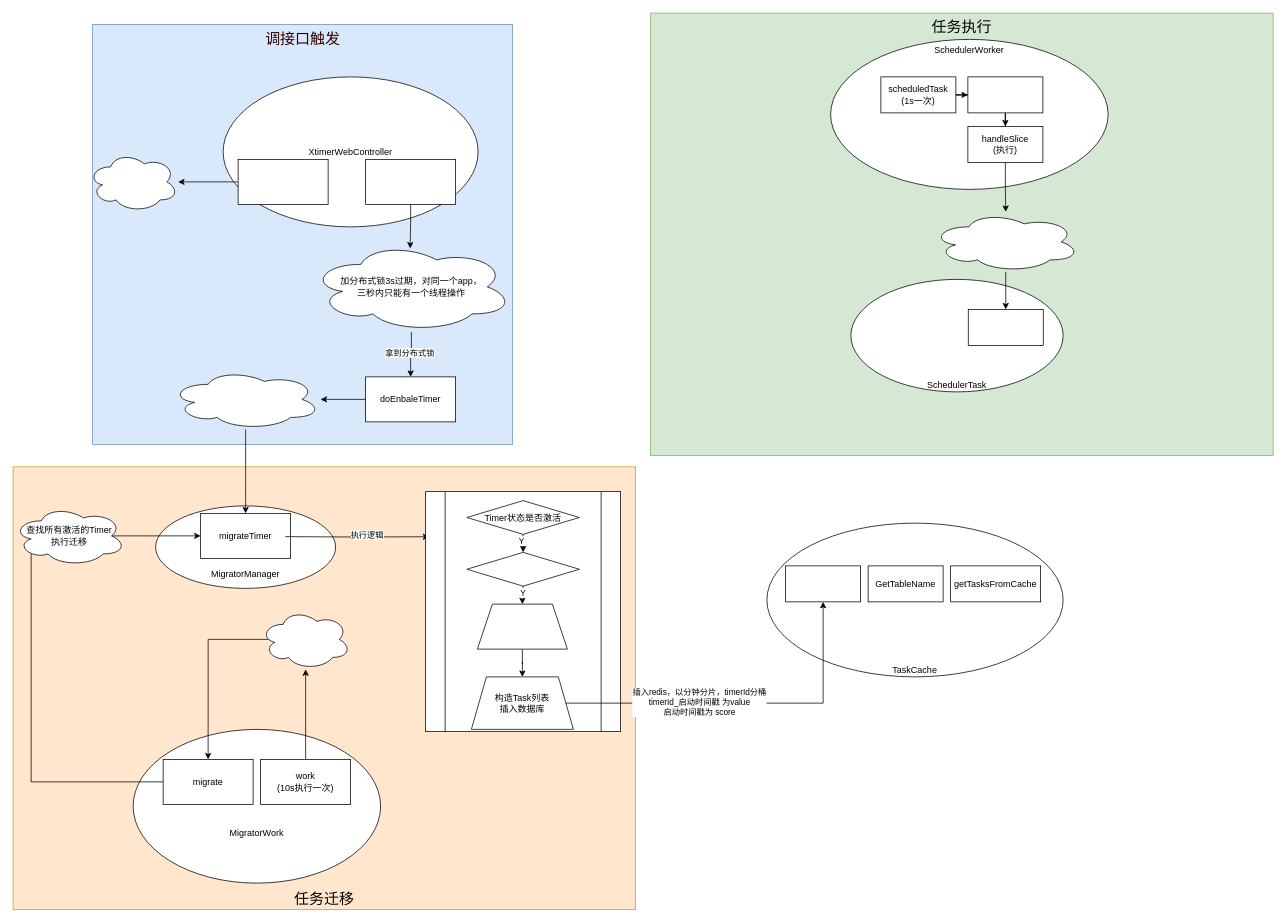
This 1286x923 diagram has some shape labels left out. Each missing label, with the centre of its shape:
asyncHandleSlice (线程池异步执行): the point at 1005,327
cacheSaveTasks: the point at 823,583
createrTime: the point at 282,181
cron表达式是否合法: the point at 522,569
enableTimer: the point at 410,181
handleSlices (执行每个桶): the point at 1005,94
修改TImer状态 为激活，调用任务迁移: the point at 245,399
加分布式锁， 60s过期: the point at 305,639
执行前一分钟的任务(重试) 执行当前分钟的任务: the point at 1005,241
数据库插入: the point at 132,181
获取两个小时 执行时刻的时间戳: the point at 522,626
